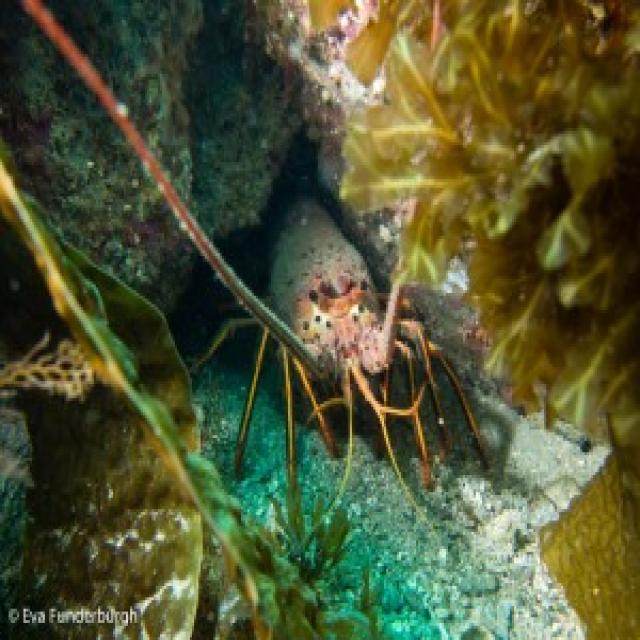lobsters: (0, 1, 627, 634)
